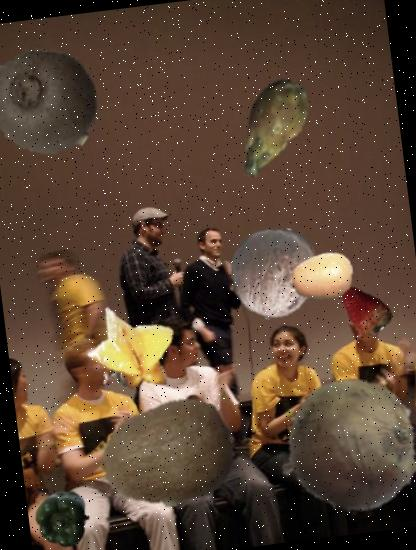Cactus: (211, 70, 330, 190)
Carambula: (77, 300, 186, 407)
Kiwi: (88, 374, 244, 532), (0, 37, 108, 163)
Kumquats: (288, 242, 356, 310)
Onion: (275, 366, 416, 523)
Pepper: (29, 486, 95, 550)
Strawberry: (336, 279, 396, 339)
Walnut: (220, 220, 326, 326)
